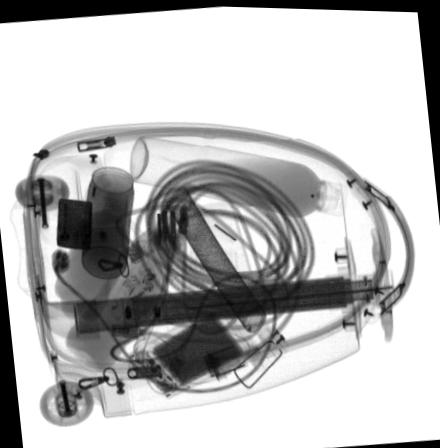Lighter: (55, 197, 91, 248)
Powerbank: (126, 299, 258, 397)
Sprayer: (128, 133, 348, 215)
